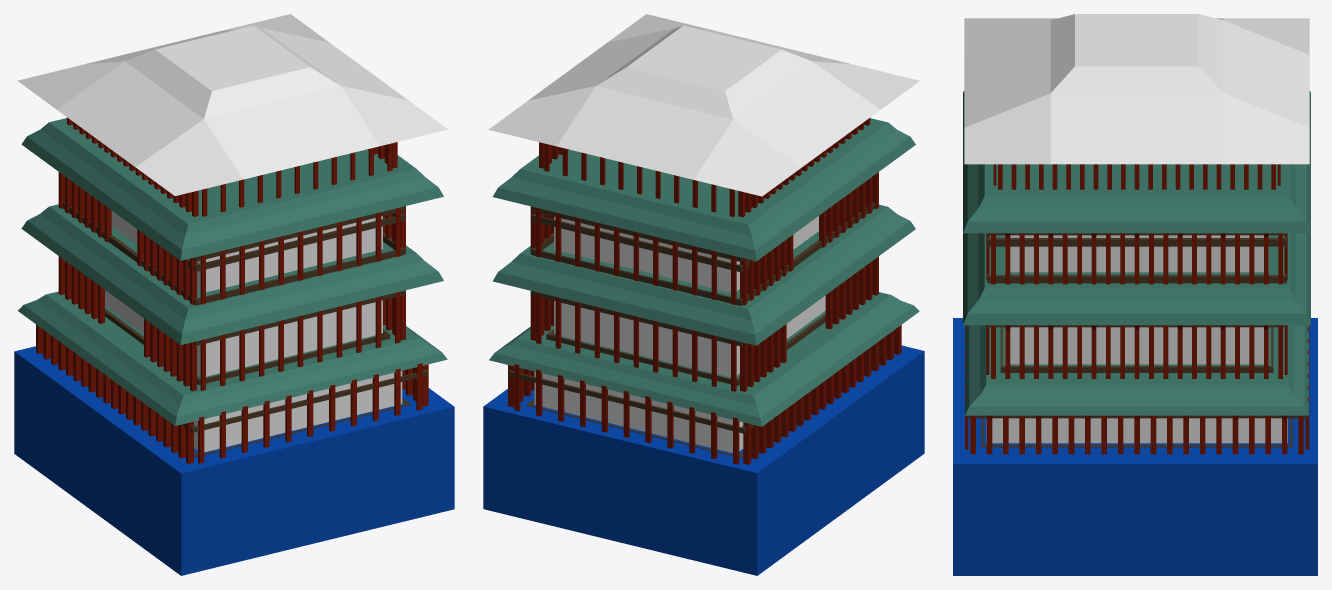
Rendered from High tower.fbx.
3 views of the same model, side by side, from view 1: azimuth 30°, elevation 25°; view 2: azimuth 150°, elevation 25°; view 3: azimuth 270°, elevation 25° (orthographic). The views are drawn at different scales.
Visible parts, largest first — view 1: 立方体.061, 平面, 立方体.054, 立方体.049, 立方体.044, 立方体.045, 立方体.050, 立方体.055, 立方体.052, 立方体.047, 立方体.057, 立方体.058 (+6 smaller); view 2: 立方体.061, 平面, 立方体.054, 立方体.049, 立方体.044, 立方体.045, 立方体.050, 立方体.055, 立方体.052, 立方体.047, 立方体.057, 立方体.058 (+6 smaller); view 3: 平面, 立方体.061, 立方体.054, 立方体.049, 立方体.044, 立方体.052, 立方体.050, 立方体.055, 立方体.045, 立方体.057, 立方体.047, 立方体.058 (+7 smaller).
Boxes of the visible parts, x1,y1,x2,y2 form: 立方体.061: (14, 346, 454, 575); 平面: (17, 14, 447, 195); 立方体.054: (21, 118, 443, 260); 立方体.049: (21, 204, 443, 344); 立方体.044: (18, 291, 447, 425); 立方体.045: (36, 324, 428, 463); 立方体.050: (58, 256, 405, 391); 立方体.055: (58, 172, 405, 304); 立方体.052: (105, 290, 382, 376); 立方体.047: (194, 371, 402, 452); 立方体.057: (111, 211, 382, 292); 立方体.058: (67, 117, 397, 216); 立方体.061: (483, 345, 924, 575); 平面: (488, 14, 919, 196); 立方体.054: (492, 118, 915, 261); 立方体.049: (492, 204, 915, 345); 立方体.044: (489, 292, 919, 426); 立方体.045: (508, 325, 901, 464); 立方体.050: (530, 256, 878, 391); 立方体.055: (530, 172, 878, 305); 立方体.052: (554, 295, 825, 377); 立方体.047: (534, 371, 743, 452); 立方体.057: (554, 216, 818, 292); 立方体.058: (539, 118, 870, 217); 平面: (964, 14, 1309, 164); 立方体.061: (953, 318, 1317, 575); 立方体.054: (963, 91, 1310, 233); 立方体.049: (963, 233, 1310, 325); 立方体.044: (965, 325, 1308, 415); 立方体.052: (1005, 327, 1268, 364); 立方体.050: (986, 325, 1287, 378); 立方体.055: (986, 233, 1287, 284); 立方体.045: (965, 325, 1309, 454); 立方体.057: (1005, 235, 1268, 272); 立方体.047: (986, 418, 1287, 443); 立方体.058: (993, 164, 1280, 189).
Size of the model in its own units: 201 by 296 by 211.
